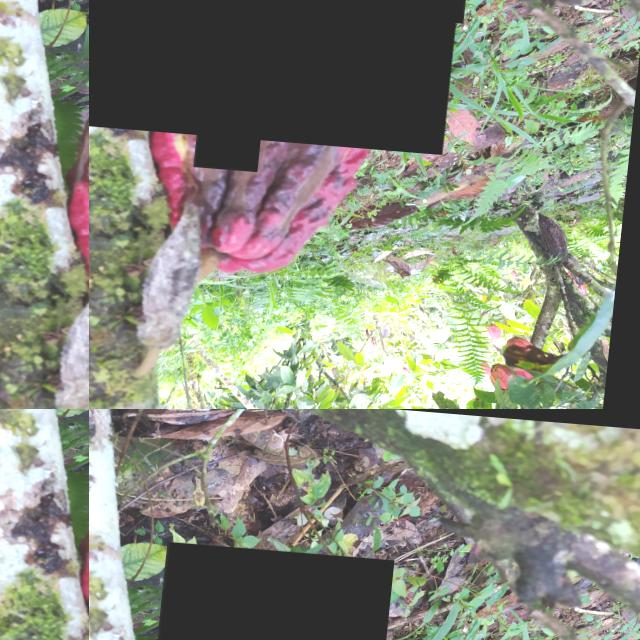Fitoftora: (89, 0, 465, 147), (144, 539, 397, 640)
Sana: (202, 122, 269, 167), (358, 136, 411, 178), (419, 0, 471, 15)
